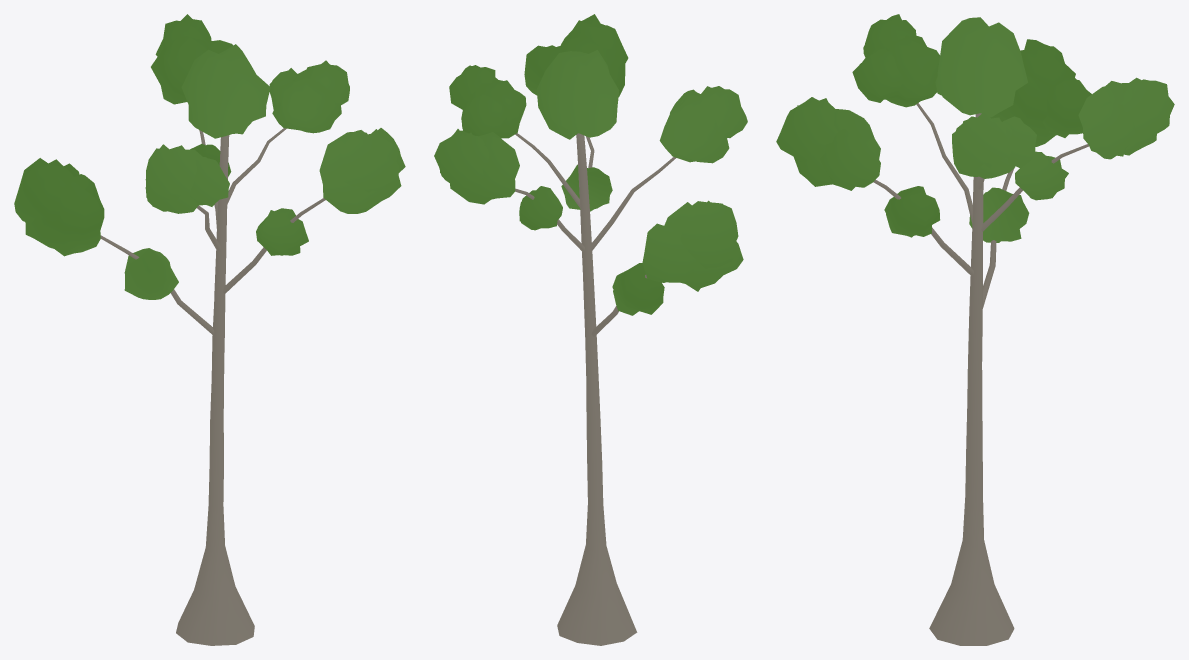
Rendered from Blender_WaterTupelo_1.glb.
3 renders of one model, left to right at view 1: azimuth 30°, elevation 25°; view 2: azimuth 150°, elevation 25°; view 3: azimuth 270°, elevation 25°, orthographic. The views are drawn at different scales.
Parts seen in each view (by area): view 1: Blender_WaterTupelo_1; view 2: Blender_WaterTupelo_1; view 3: Blender_WaterTupelo_1.
Boxes of the visible parts, left/top/right/bottom form: Blender_WaterTupelo_1: left=14, top=14, right=405, bottom=645; Blender_WaterTupelo_1: left=434, top=14, right=747, bottom=645; Blender_WaterTupelo_1: left=776, top=14, right=1174, bottom=645.
Bounding box in the file's own units: 14.05 × 24.79 × 14.65.
